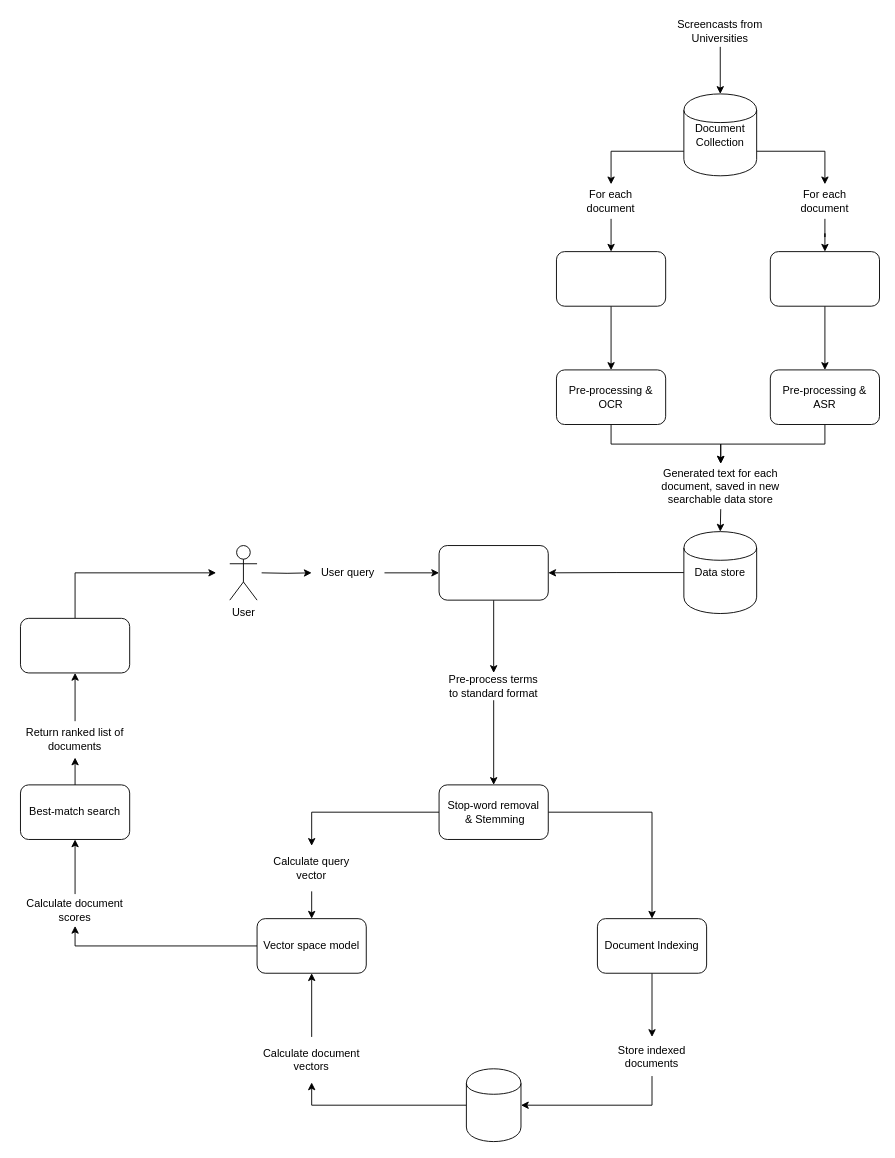
Some shapes in this 895 by 1158 pixel diagram are drawn without their labels. Each missing label, with the box of its shape:
Approximate string matching: (438, 545, 548, 600)
Audio: (769, 251, 880, 306)
Index: (465, 1068, 521, 1142)
Query results: (20, 617, 130, 673)
Video: (556, 251, 666, 306)
